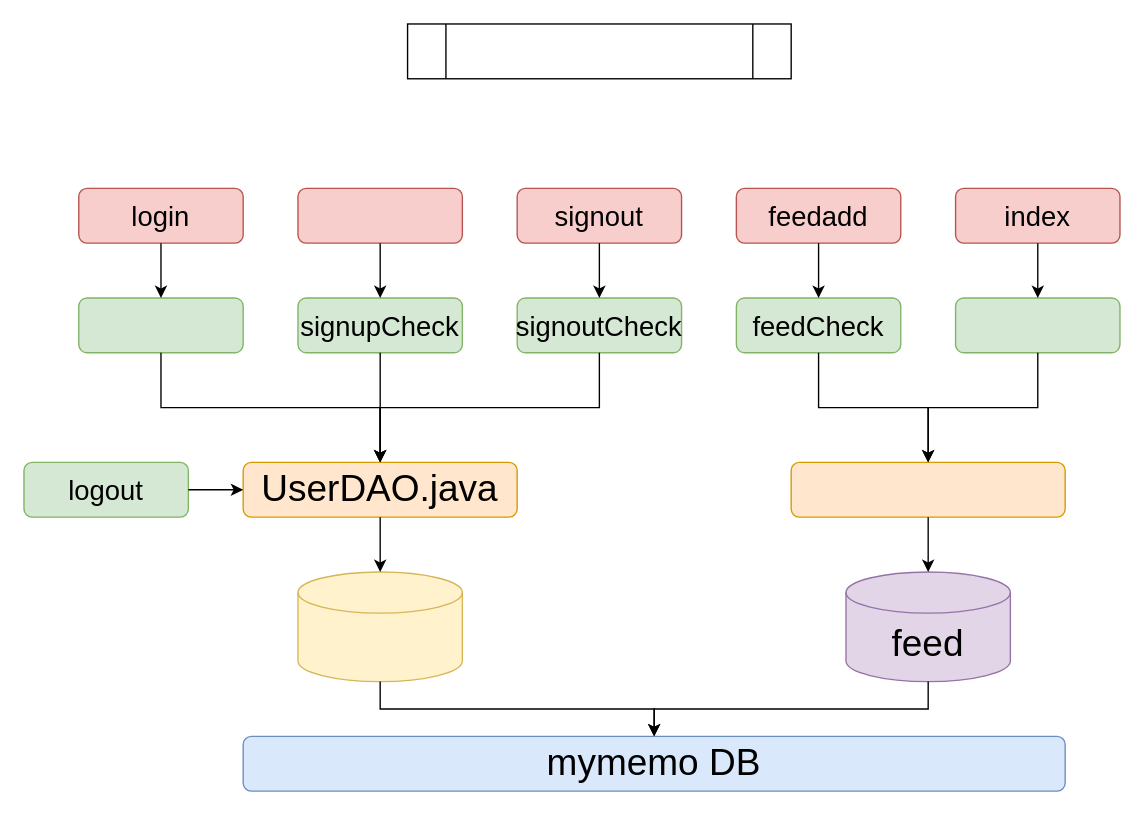
The diagram is 1144 pixels wide and 815 high, and some of its shapes have lost their labels. Each missing label, with the box of its shape:
FeedDAO.java: (790, 461, 1065, 517)
loginCheck: (77, 297, 243, 353)
main: (954, 297, 1120, 353)
MyMEMO: (406, 23, 791, 79)
signup: (297, 187, 462, 243)
user: (297, 571, 462, 682)
